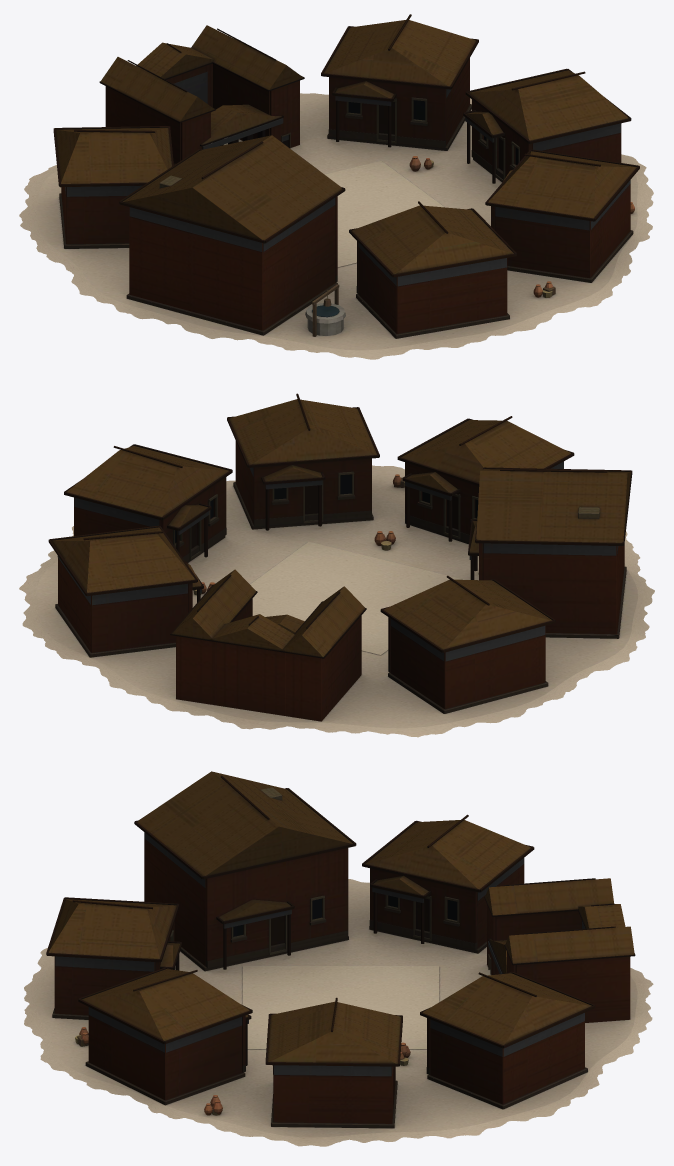
File: gunpowder-town-small-b-westafrica.glb
The picture shows the model from 3 angles, top to bottom: view 1: azimuth 30°, elevation 25°; view 2: azimuth 150°, elevation 25°; view 3: azimuth 270°, elevation 25°; orthographic projection.
Parts seen in each view (by area): view 1: LOD0; view 2: LOD0; view 3: LOD0.
Boxes of the visible parts, <box> form: LOD0: <box>19,14,653,359</box>; LOD0: <box>19,393,654,737</box>; LOD0: <box>24,771,653,1146</box>.
Size of what is drawn, in the model's own units: 3.98 by 0.9327 by 3.95.
3 materials, 3 textured.
